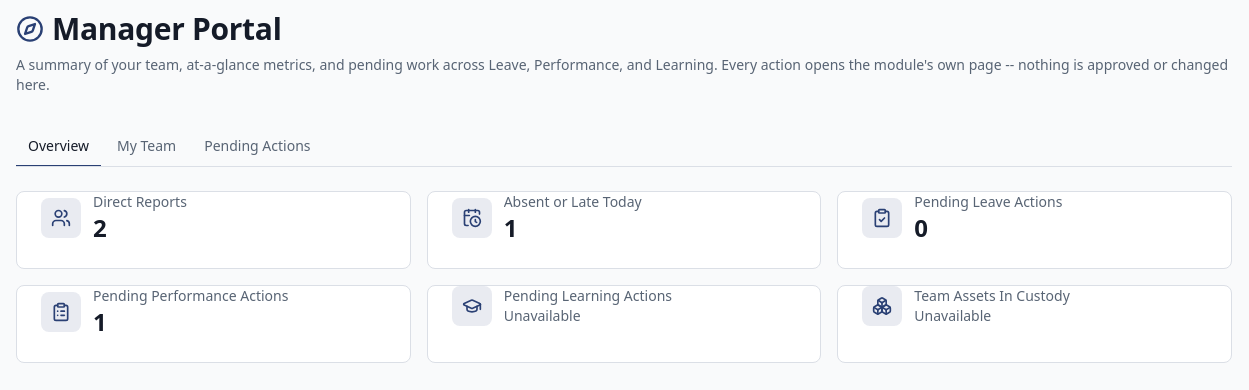
Manager Portal page › My Team › shows the frozen empty state for a linked manager with zero direct reports — not an error
Click the tab with test id "tab-manager-my-team" at (147, 147), box 105,127 -> 188,167
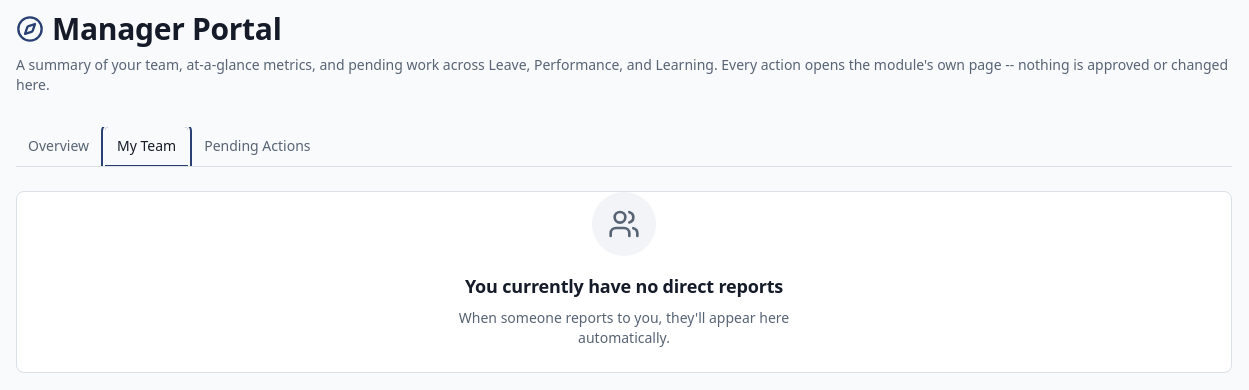
Now the heading "You currently have no direct reports" is shown, box 465,272 -> 783,300
